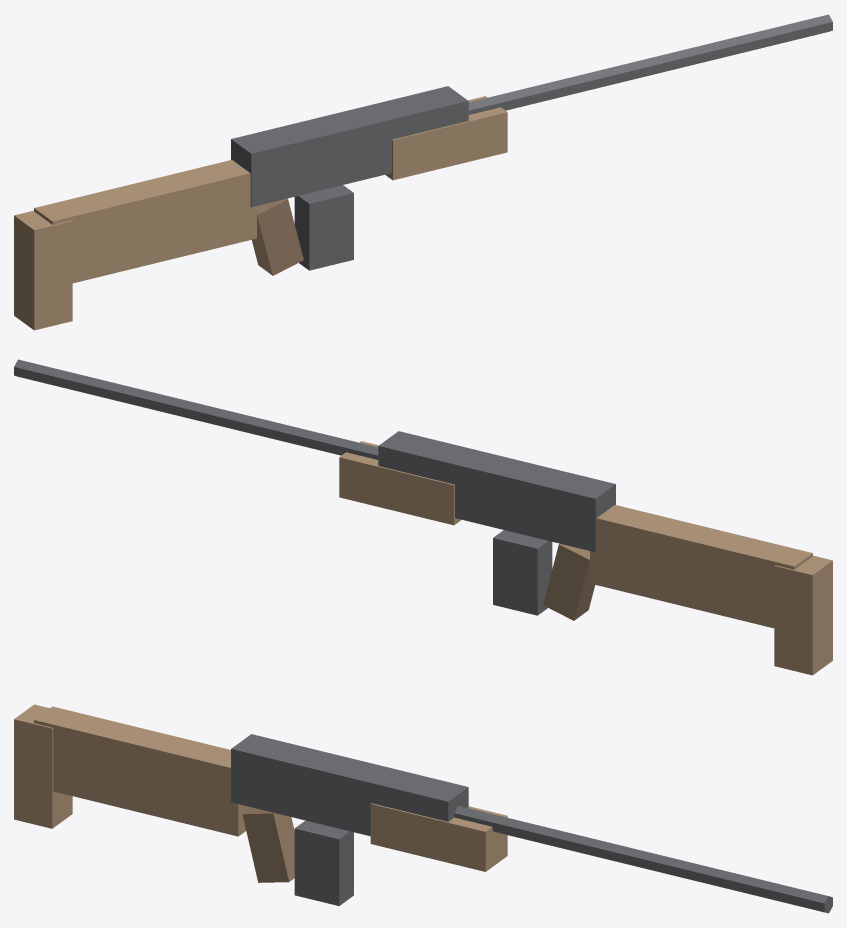
The model's file is held_weapon_svt40.glb.
The picture shows the model from 3 angles, top to bottom: view 1: azimuth 30°, elevation 25°; view 2: azimuth 150°, elevation 25°; view 3: azimuth 330°, elevation 25°; orthographic projection.
Visible parts, largest first — view 1: held_weapon_svt40; view 2: held_weapon_svt40; view 3: held_weapon_svt40.
Part boxes in pixels (x1,y1,x2,y2): held_weapon_svt40: (14,14,832,330); held_weapon_svt40: (14,359,832,675); held_weapon_svt40: (14,704,832,913).
Size of the model in its own units: 1.26 by 0.2 by 0.06.
